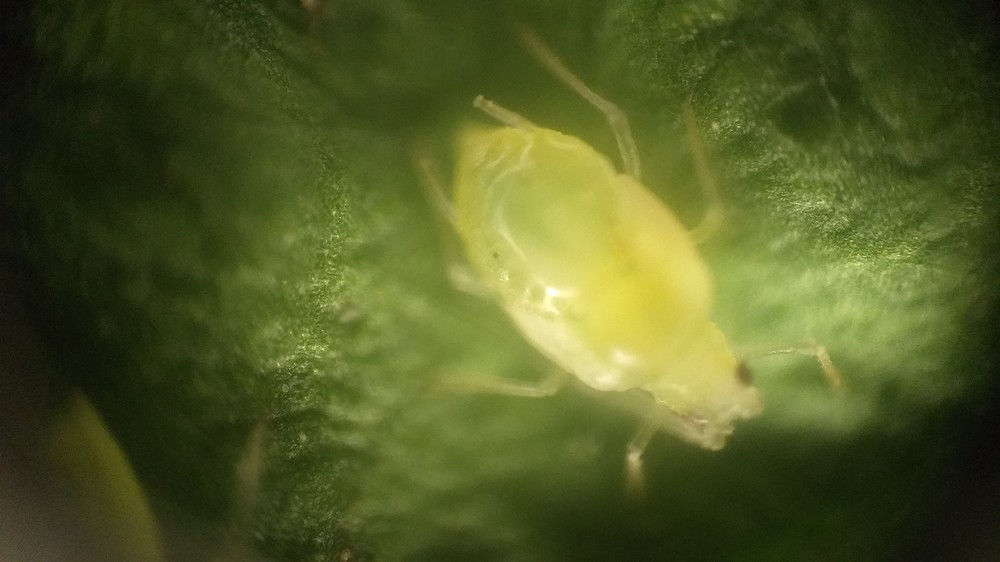Pulgon: (356, 32, 893, 542)
